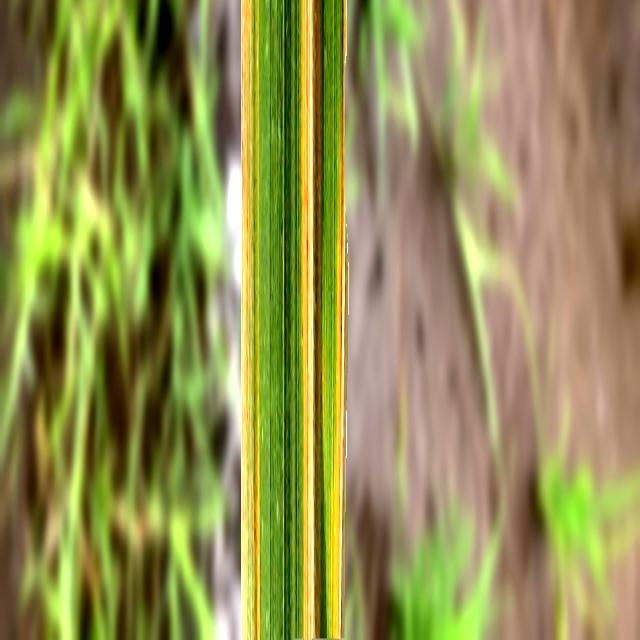BLS: (302, 0, 315, 638), (241, 0, 251, 637)
